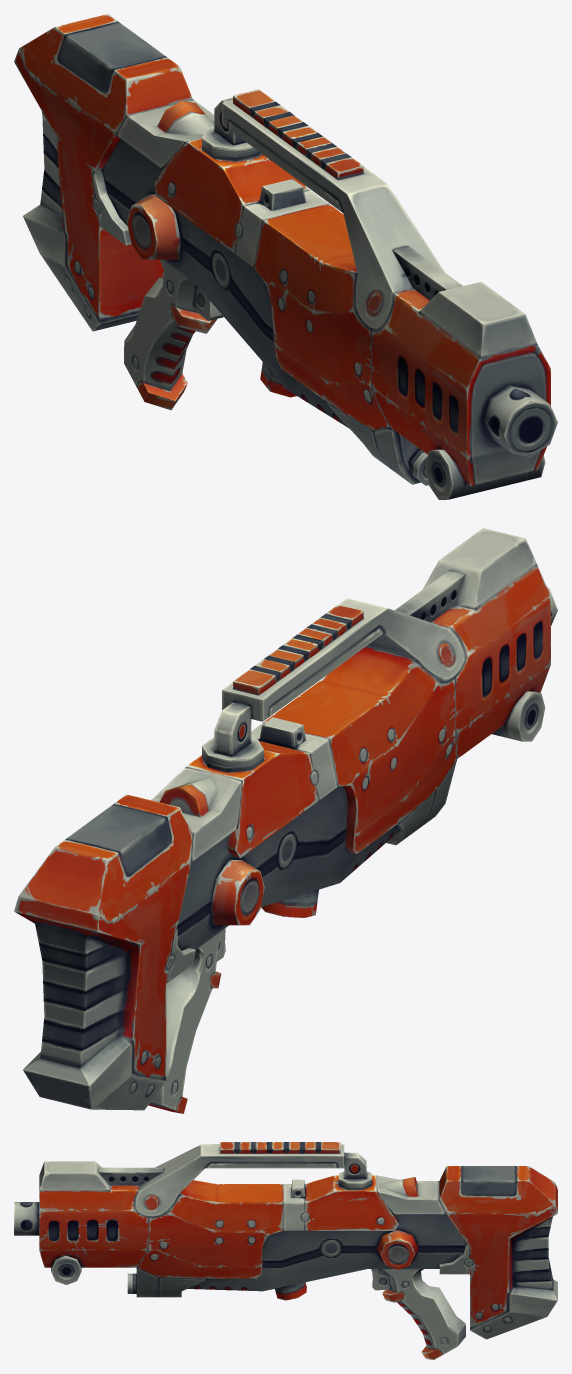
The model's file is gun_04.fbx.
3 renders of one model, top to bottom at view 1: azimuth 30°, elevation 25°; view 2: azimuth 150°, elevation 25°; view 3: azimuth 270°, elevation 25°, orthographic. The views are drawn at different scales.
Visible parts, largest first — view 1: gun_04; view 2: gun_04; view 3: gun_04.
Part boxes in pixels (x1=…): gun_04: x1=14, y1=14, x2=557, y2=499; gun_04: x1=14, y1=528, x2=557, y2=1113; gun_04: x1=14, y1=1142, x2=557, y2=1359.
Size of the model in its own units: 5.17 by 17.05 by 39.41.
